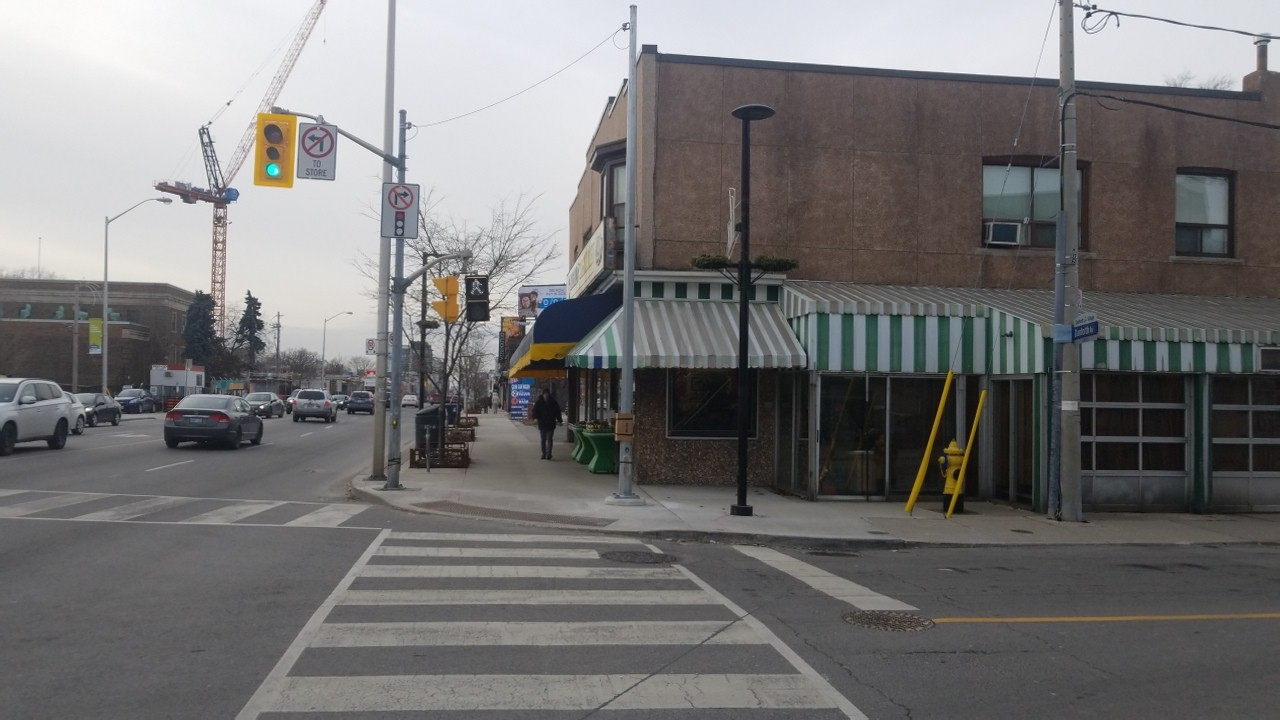light: (460, 272, 492, 323)
